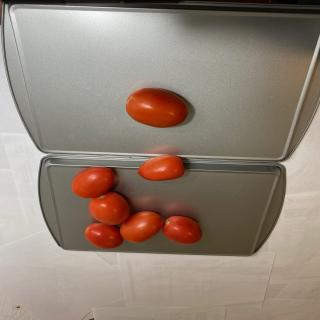Tomato: (125, 87, 189, 128), (88, 191, 130, 225), (71, 166, 115, 198), (120, 211, 163, 243), (137, 154, 185, 181), (162, 215, 202, 245), (84, 223, 124, 249)
